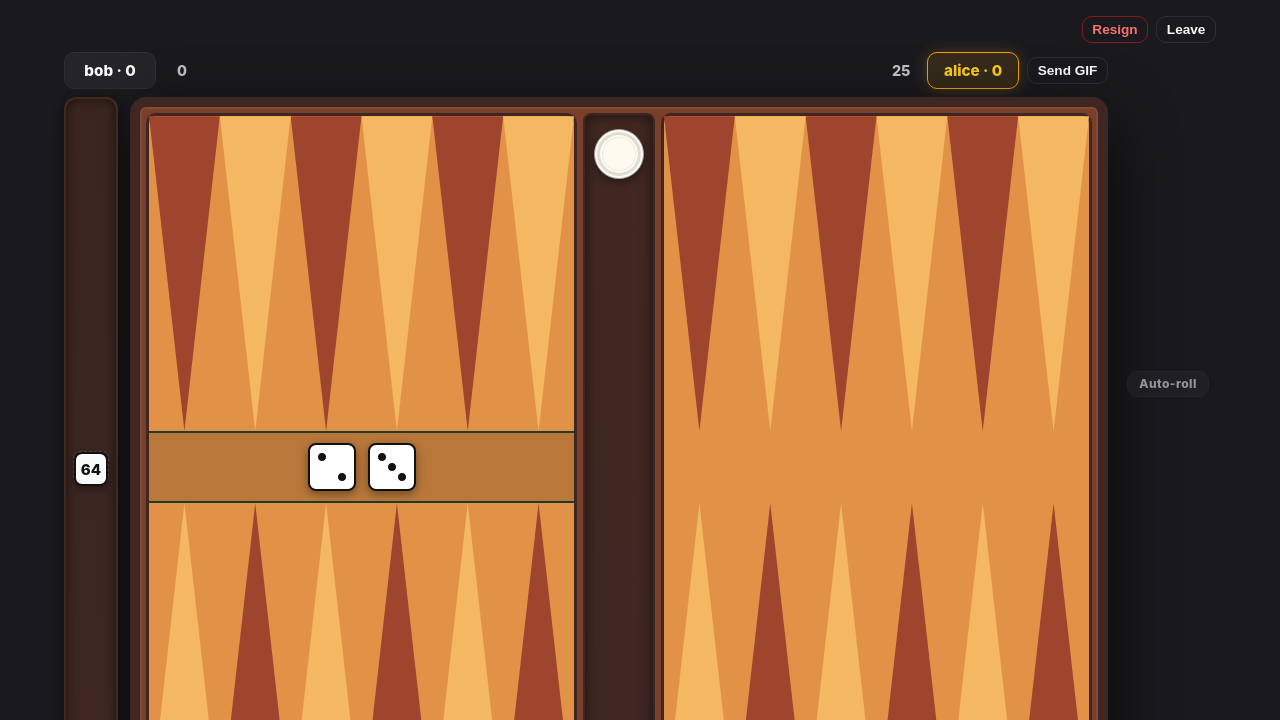
Test case: click select › select bar then valid dest shows dots
Click the 3rd element with class "top". click: [619, 154]
box: 594,129 -> 644,179
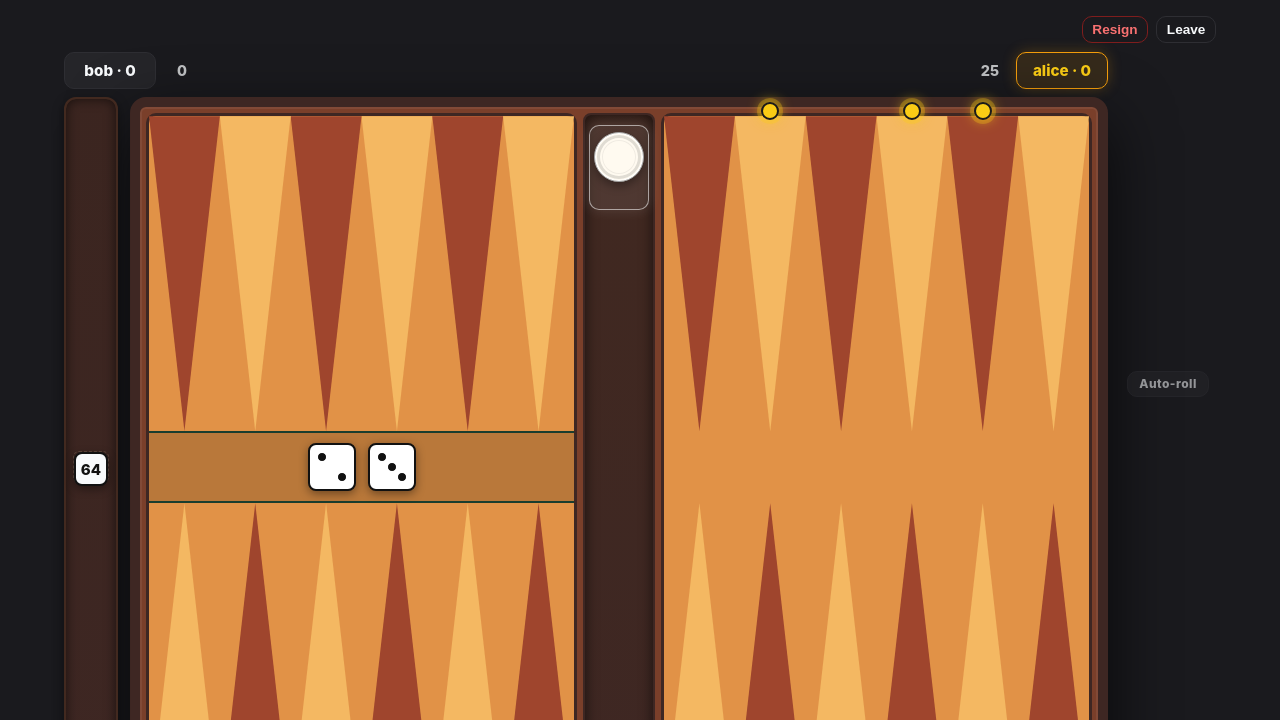
Expected: the 1st element with class "show" is shown, 761,102 -> 779,120
